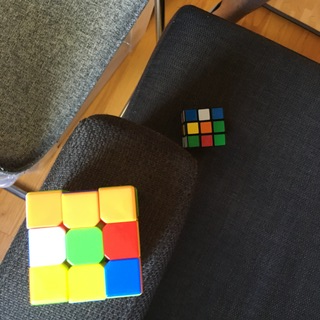face: (26, 185, 143, 306), (184, 107, 226, 148)
